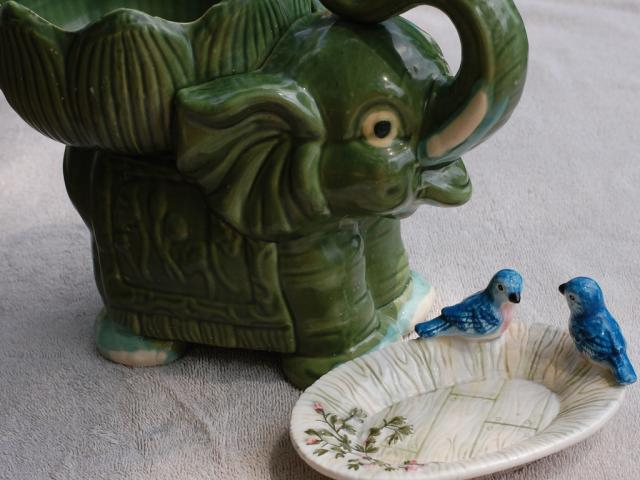Bird: (557, 275, 635, 385), (416, 269, 526, 340)
